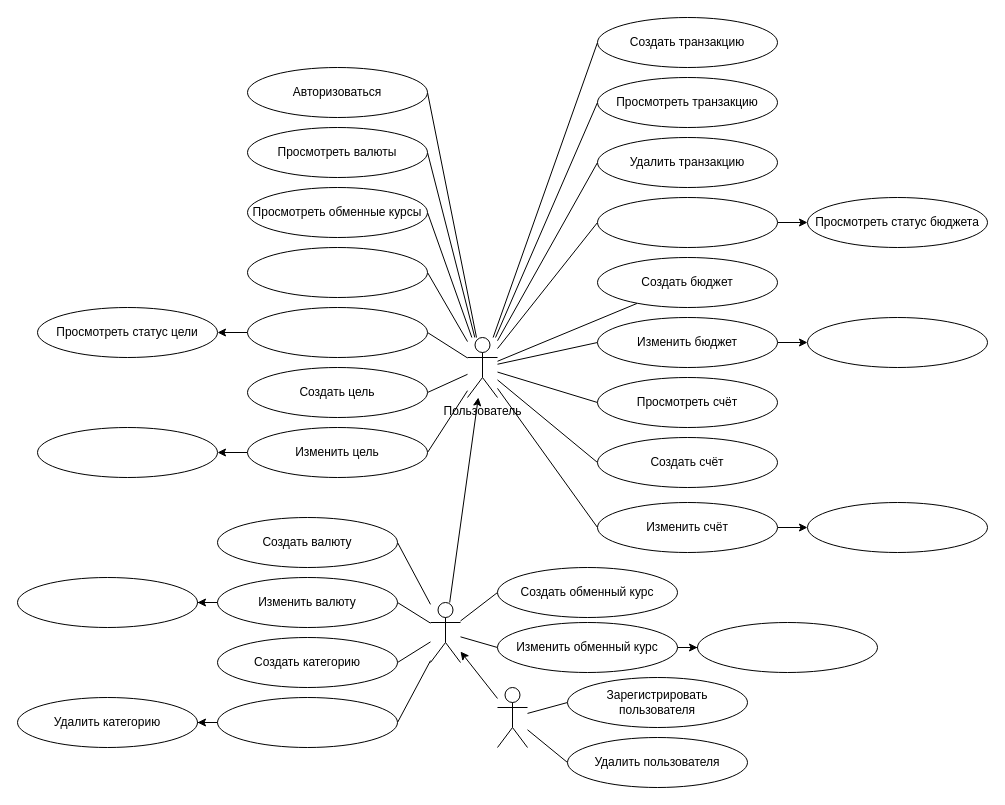
Image size: 1005x805. Some labels were removed from this diagram. Each missing label, with the centre of its shape:
"Администратор" goes at [445,632].
"Изменить категорию" goes at [307,722].
"Просмотреть бюджет" goes at [687,222].
"Просмотреть категории" goes at [337,272].
"Просмотреть цель" goes at [337,332].
"Система" goes at [512,717].
"Удалить бюджет" goes at [897,342].
"Удалить валюту" goes at [107,602].
"Удалить обменный курс" goes at [787,647].
"Удалить счёт" goes at [897,527].
"Удалить цель" goes at [127,452].
